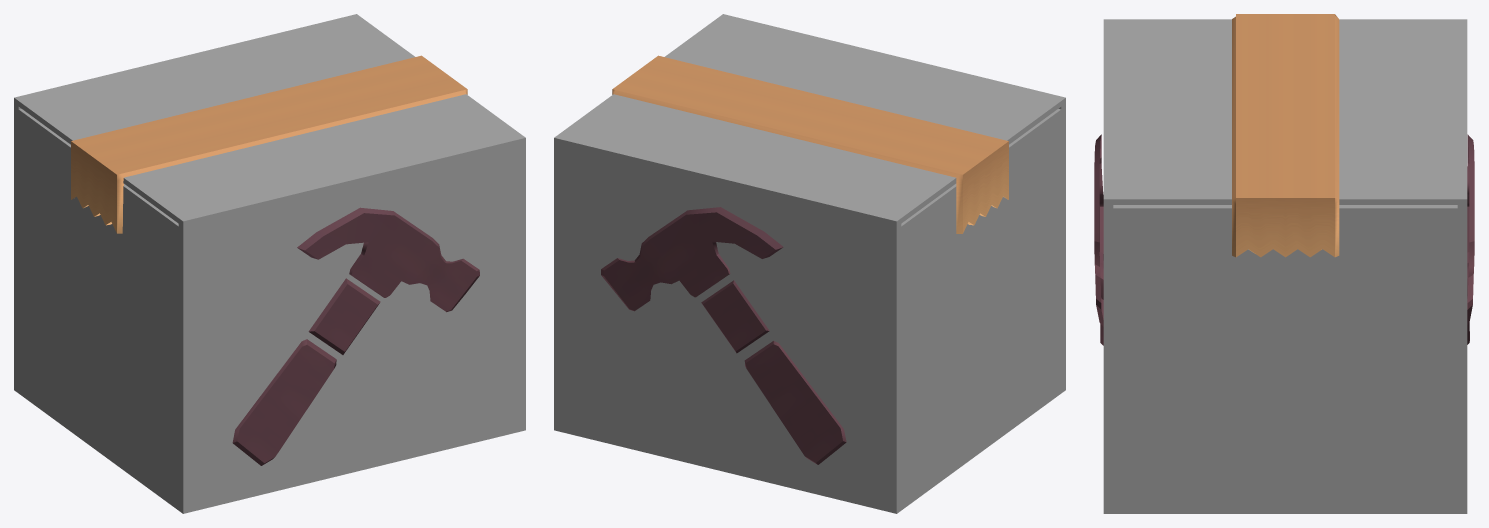
Rendered from PlaceableBox.fbx.
3 views of the same model, side by side, from view 1: azimuth 30°, elevation 25°; view 2: azimuth 150°, elevation 25°; view 3: azimuth 270°, elevation 25° (orthographic). The views are drawn at different scales.
Visible parts, largest first — view 1: pCube64; view 2: pCube64; view 3: pCube64.
Boxes of the visible parts, bbox=[...] form: pCube64: bbox=[14, 14, 525, 513]; pCube64: bbox=[554, 14, 1065, 513]; pCube64: bbox=[1094, 14, 1474, 513].
Size of the model in its own units: 50.37 by 40.53 by 44.01.
